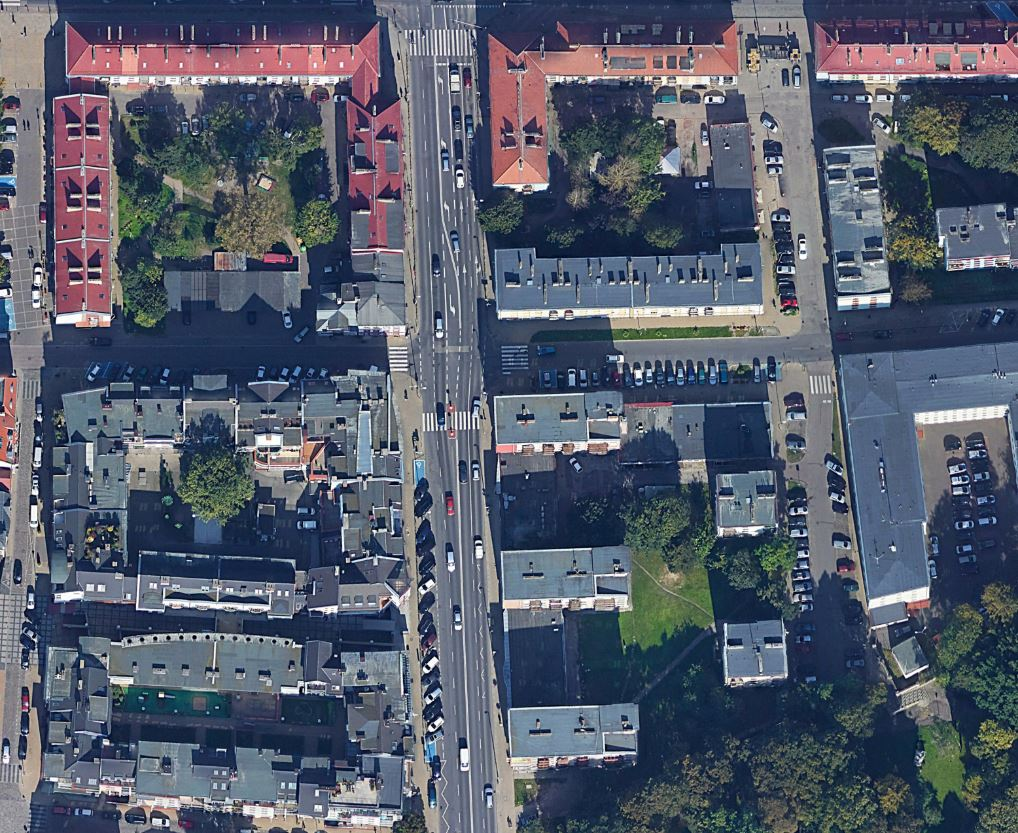block of flats: (42, 13, 407, 342), (44, 359, 413, 621), (28, 629, 427, 824), (829, 332, 1018, 628), (483, 13, 747, 208), (489, 236, 769, 327), (807, 14, 1018, 87), (502, 697, 656, 787), (490, 535, 644, 621), (823, 139, 896, 319), (482, 374, 630, 460), (931, 194, 1018, 275), (711, 461, 791, 548), (718, 610, 797, 694)
